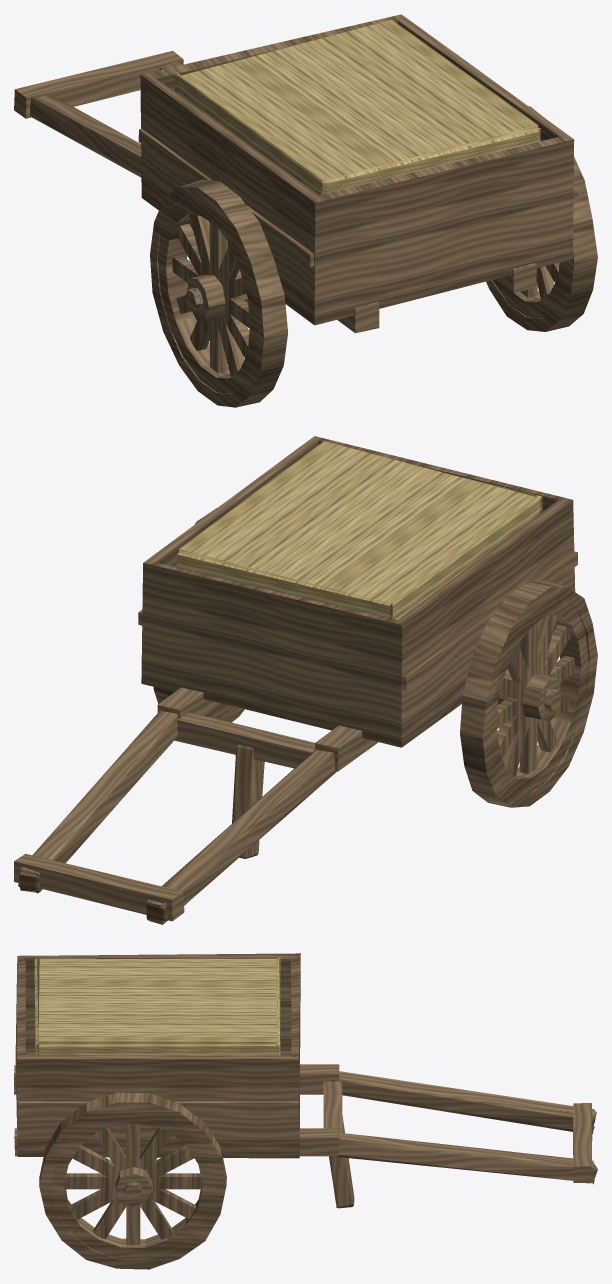
File: two_wheel_handcart.glb
3 renders of one model, top to bottom at view 1: azimuth 30°, elevation 25°; view 2: azimuth 150°, elevation 25°; view 3: azimuth 270°, elevation 25°, orthographic. The views are drawn at different scales.
Parts seen in each view (by area): view 1: TwoWheelHandcart, HayFill, Wheel_L1, Wheel_R1; view 2: TwoWheelHandcart, HayFill, Wheel_L1, Wheel_R1; view 3: TwoWheelHandcart, HayFill, Wheel_R1.
Part boxes in pixels (box(x1,y1,x2,y2)): TwoWheelHandcart: box(14, 14, 578, 333); HayFill: box(174, 20, 540, 194); Wheel_L1: box(150, 179, 287, 407); Wheel_R1: box(486, 106, 597, 331); TwoWheelHandcart: box(14, 436, 577, 924); HayFill: box(177, 441, 542, 620); Wheel_L1: box(460, 580, 597, 807); Wheel_R1: box(153, 508, 244, 722); TwoWheelHandcart: box(14, 953, 597, 1208); HayFill: box(34, 957, 280, 1056); Wheel_R1: box(39, 1092, 226, 1269).
Bounding box in the file's own units: 1.55 × 1.02 × 2.62.
3 materials, 3 textured.
